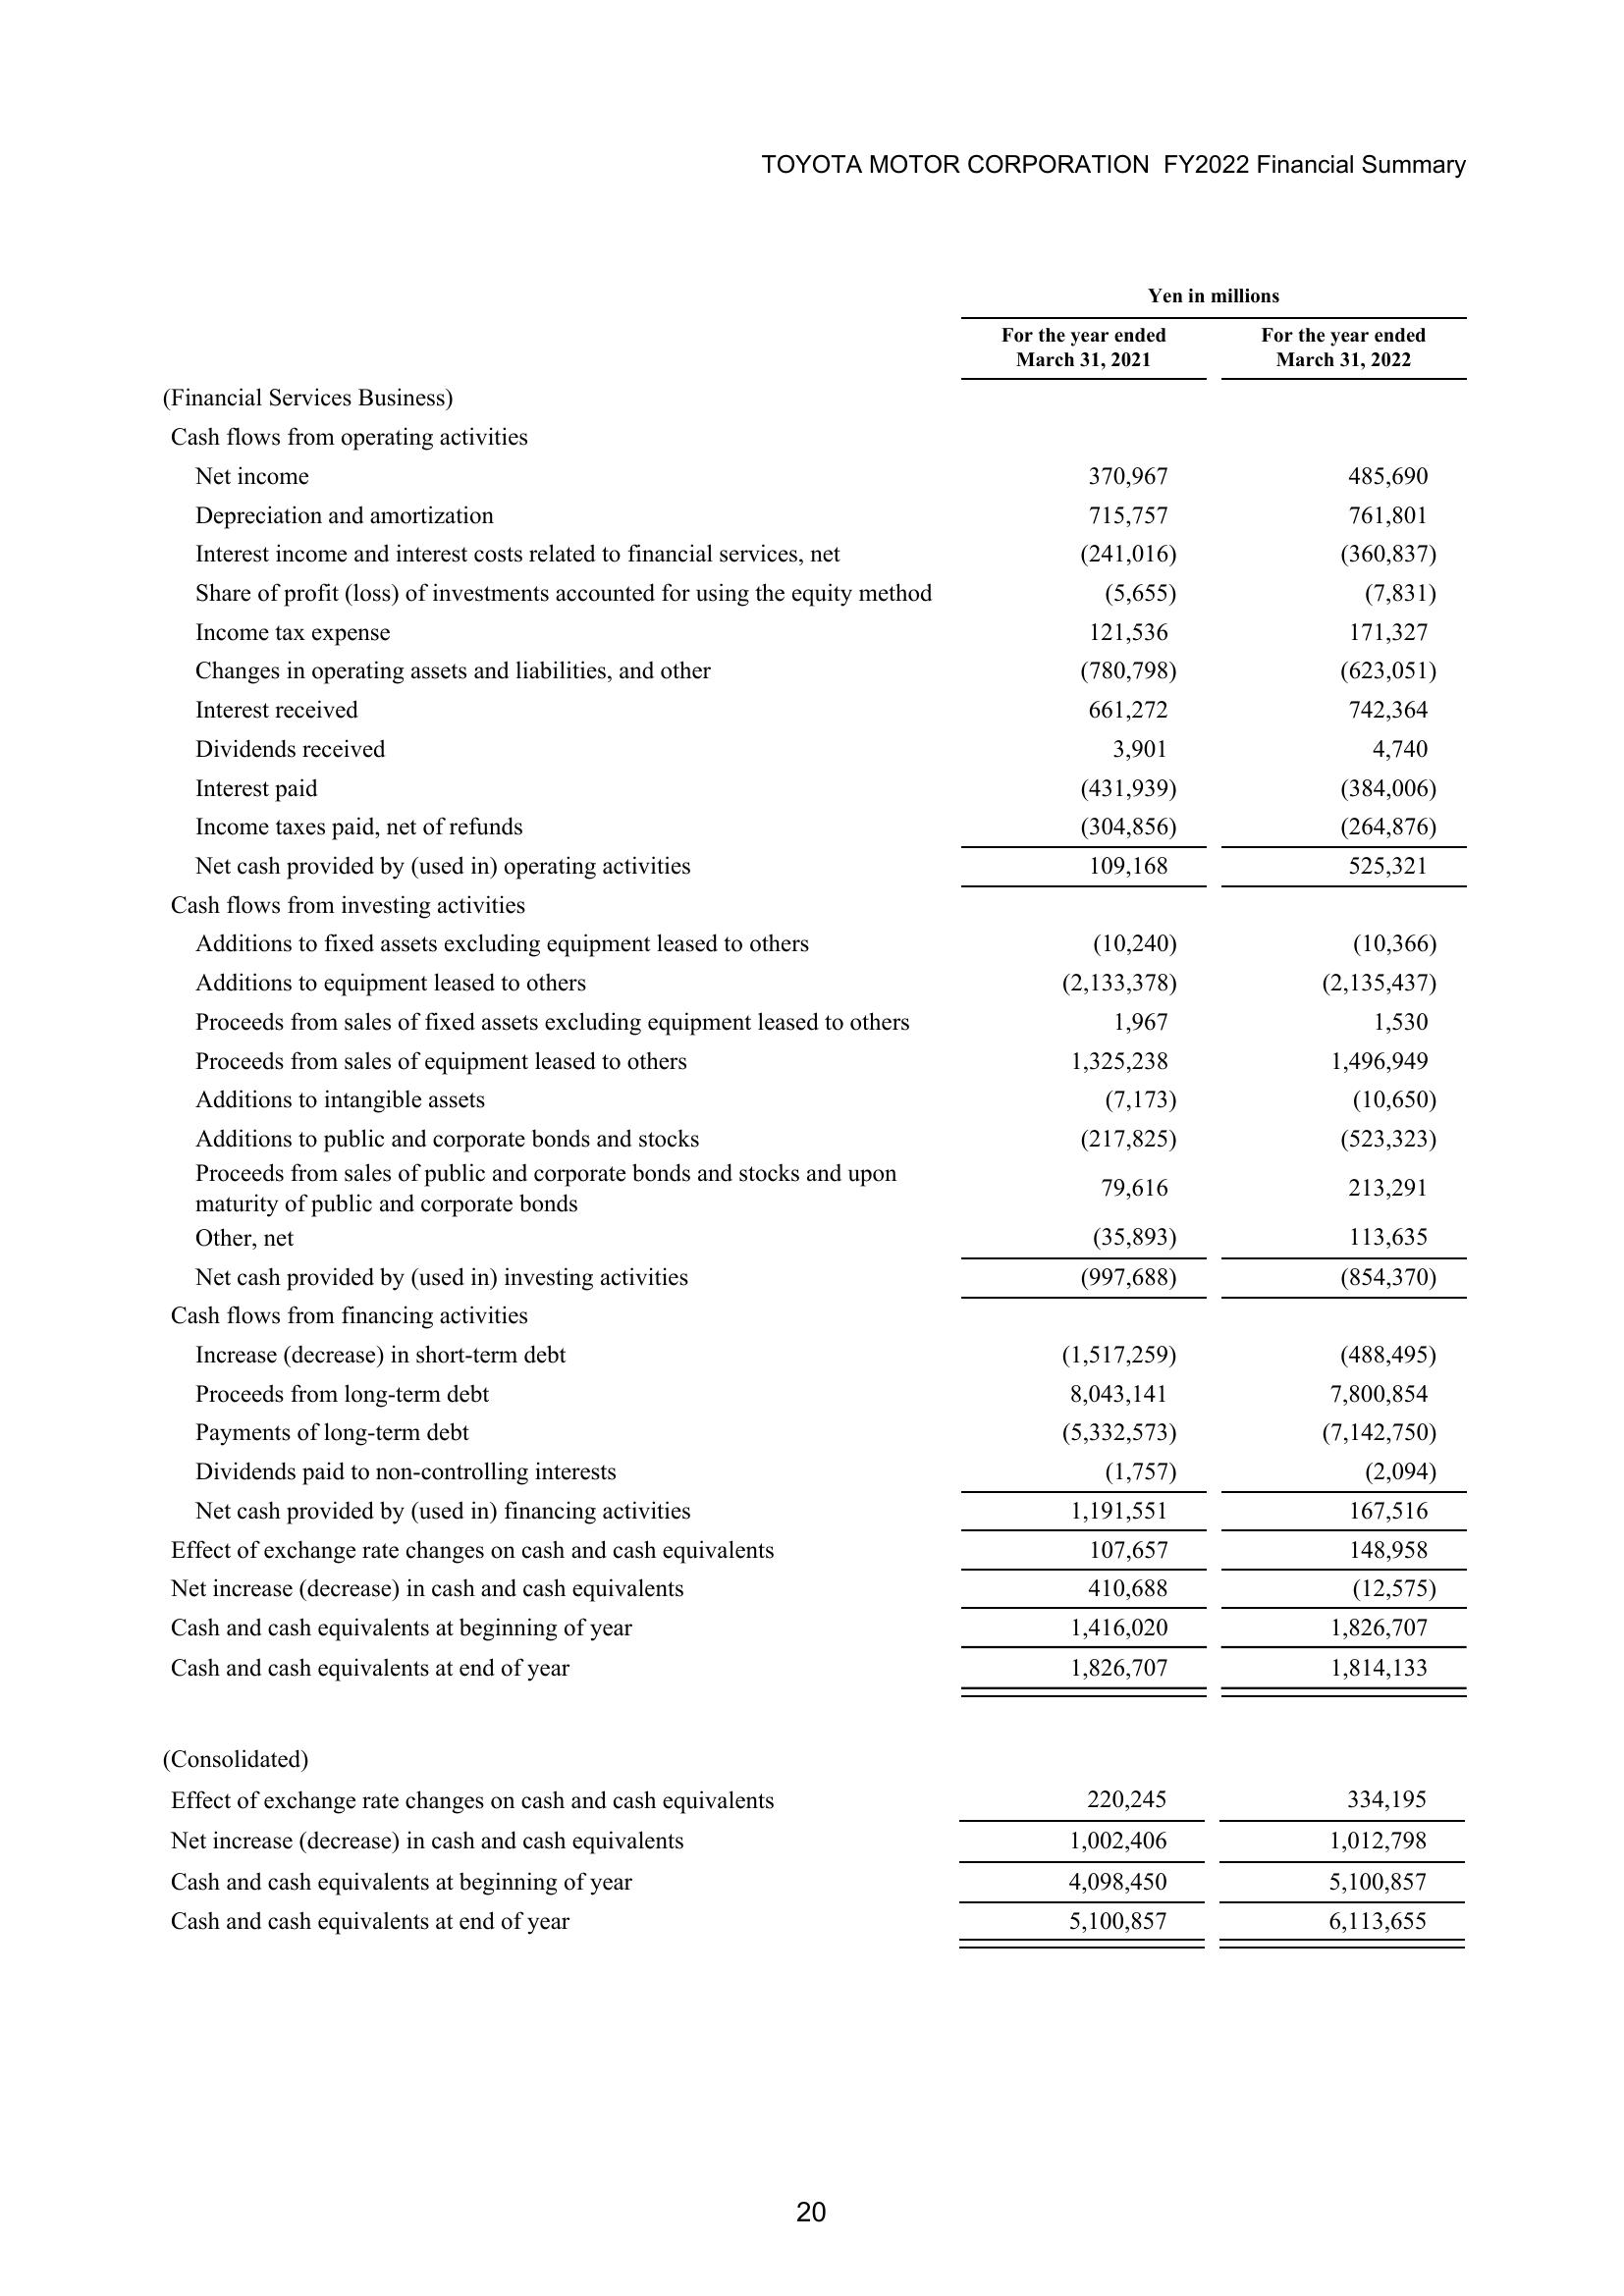Footer: (0, 2175, 1624, 2296)
Header: (0, 0, 1624, 211)
Table: (109, 278, 1475, 1966)
